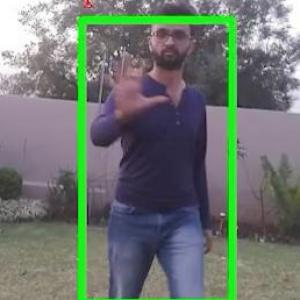follow_hand: (103, 51, 171, 119)
